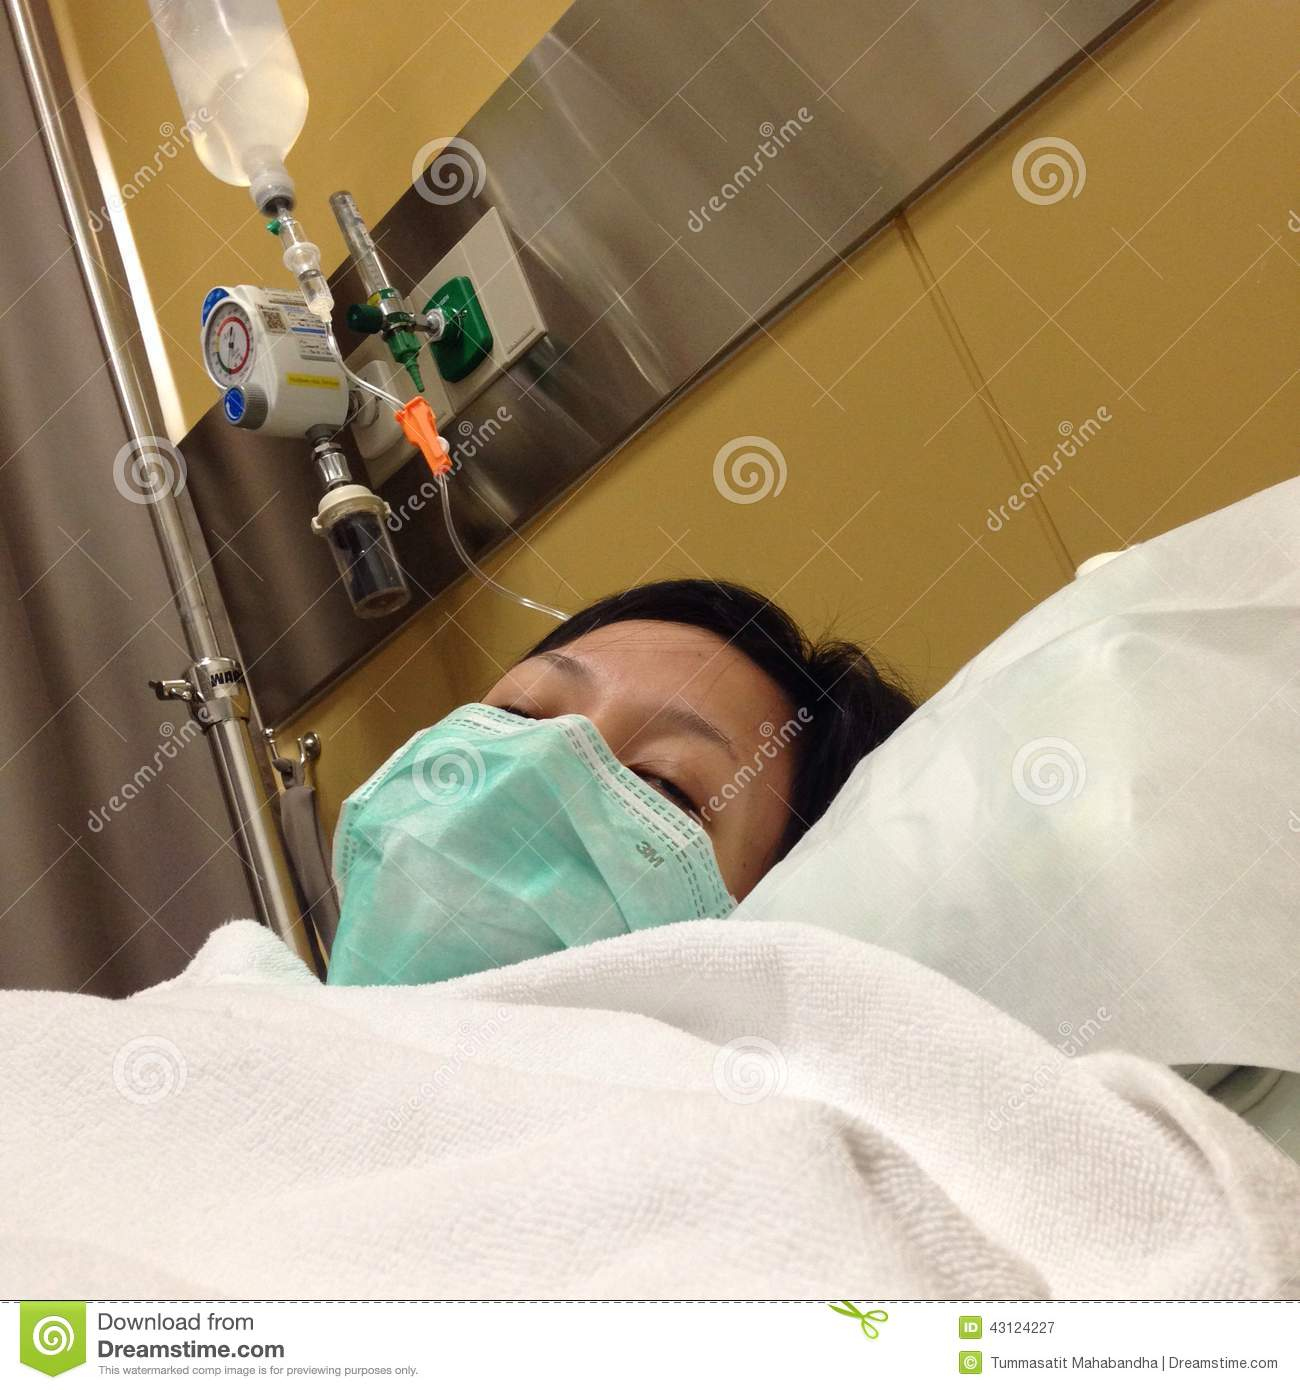mask: (345, 696, 718, 1028)
